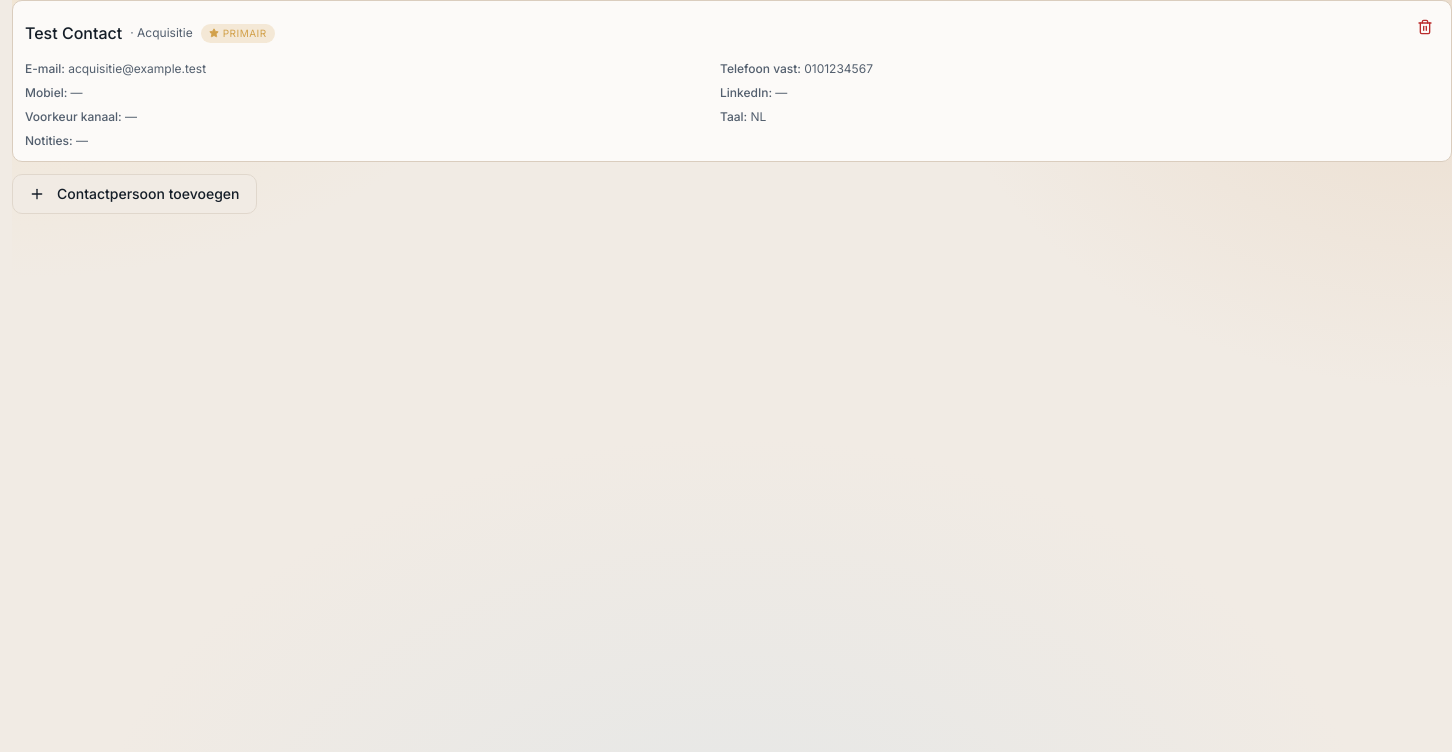
Scenario: Direct openen van persoon en huurder vanuit de samenvatting › opent contactpersoon via naam zonder e-mail-/telefoonlinks te vervangen
Expected: the button "Bewerken" is not shown
Click the button with aria-label "Wijzig contactpersoon Test Contact": (74, 33) [17, 13, 130, 53]
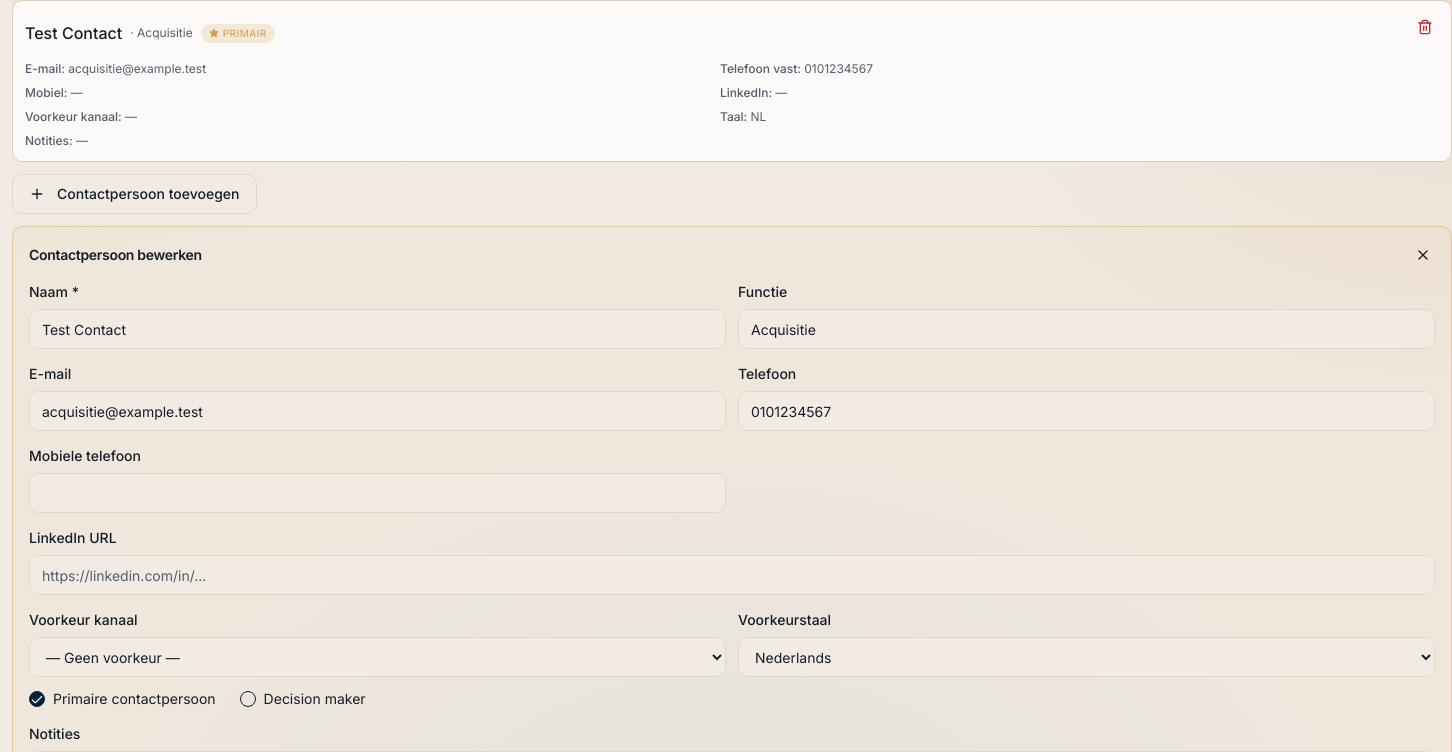
Expected: the heading "Contactpersoon bewerken" is shown, [29, 245, 202, 265]
